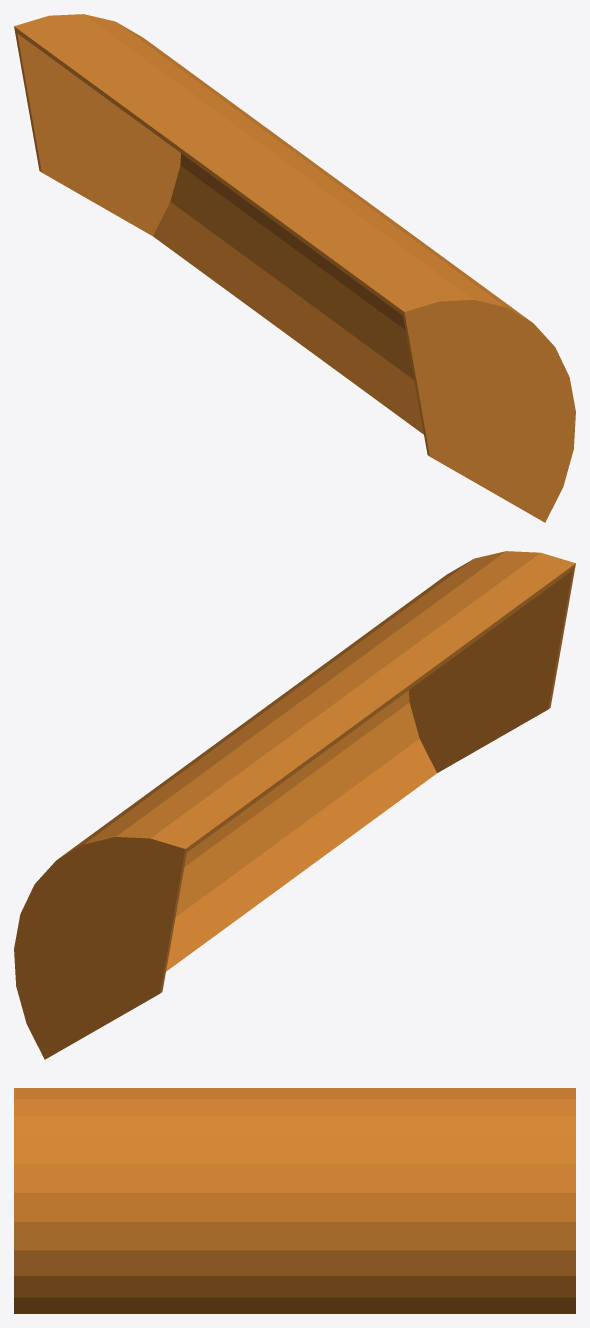
The model's file is chair_8pack_hood.obj.
3 renders of one model, top to bottom at view 1: azimuth 30°, elevation 25°; view 2: azimuth 150°, elevation 25°; view 3: azimuth 270°, elevation 25°, orthographic. The views are drawn at different scales.
Size of the model in its own units: 1.27 by 1.74 by 4.99.
